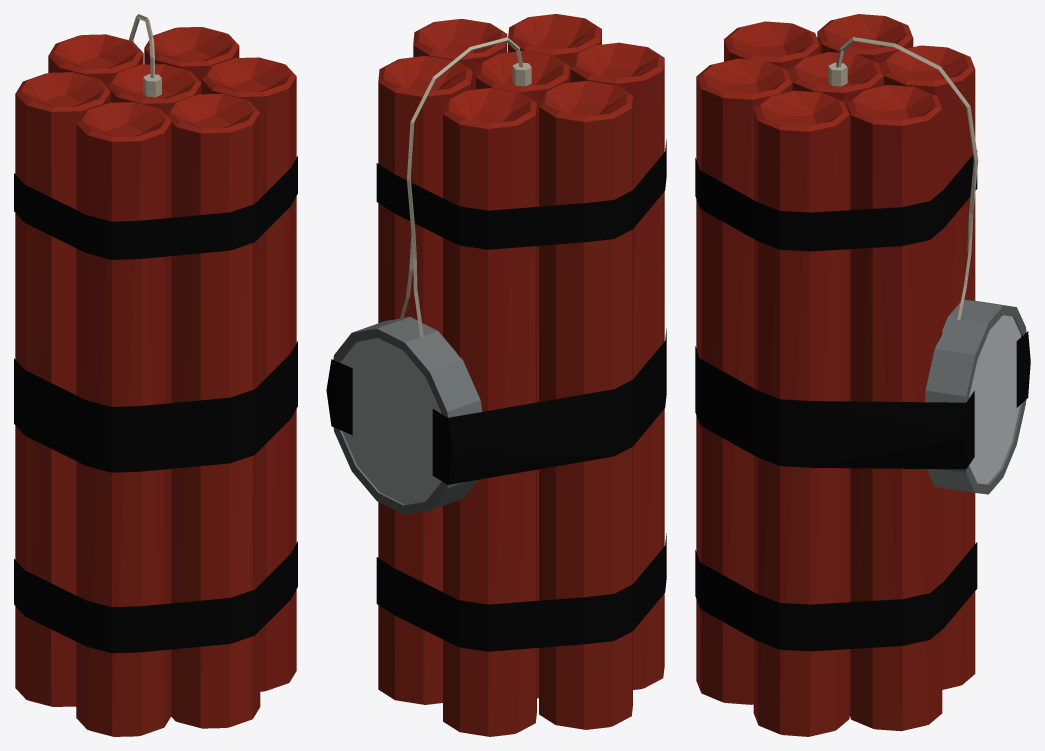
Rendered from r32_waffe_dynamit.glb.
3 renders of one model, left to right at view 1: azimuth 30°, elevation 25°; view 2: azimuth 150°, elevation 25°; view 3: azimuth 270°, elevation 25°, orthographic. The views are drawn at different scales.
Visible parts, largest first — view 1: dynamit; view 2: dynamit; view 3: dynamit.
Boxes of the visible parts, bbox=[...] form: dynamit: bbox=[14, 14, 297, 736]; dynamit: bbox=[326, 14, 666, 736]; dynamit: bbox=[695, 14, 1030, 736].
Size of the model in its own units: 0.8673 by 2.13 by 1.
